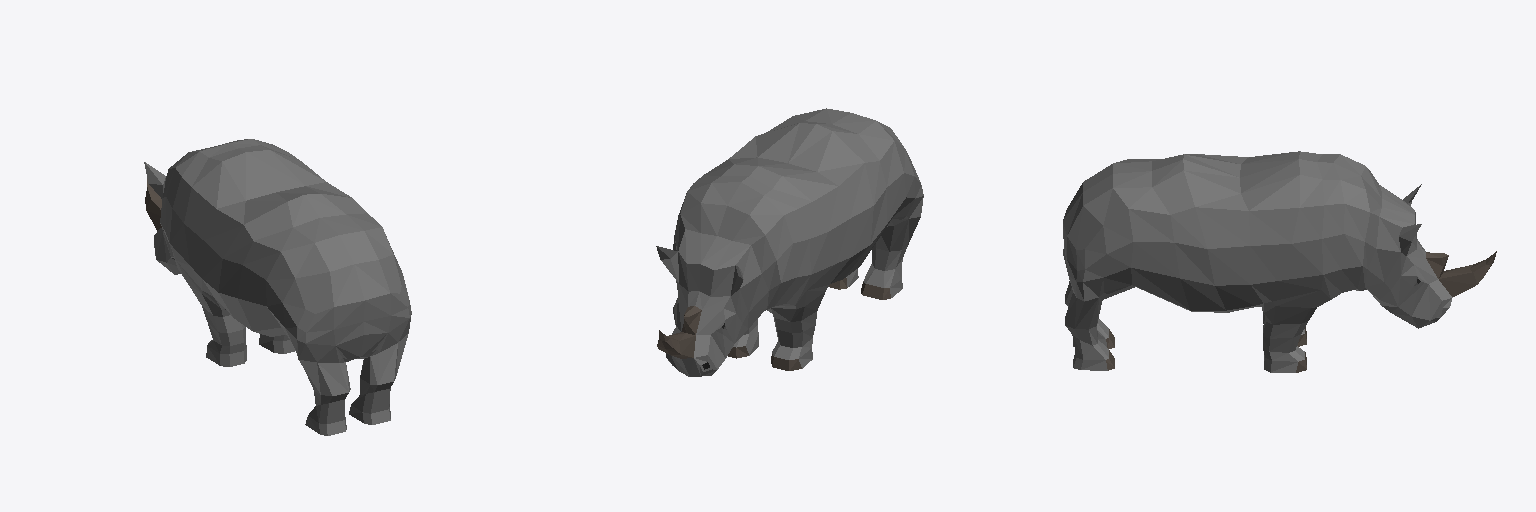
3 renders of one model, left to right at view 1: azimuth 30°, elevation 25°; view 2: azimuth 150°, elevation 25°; view 3: azimuth 270°, elevation 25°, orthographic.
Parts seen in each view (by area): view 1: Plane; view 2: Plane; view 3: Plane.
Part boxes in pixels (x1,y1,x2,y2): Plane: (144,139,411,435); Plane: (656,108,923,376); Plane: (1063,151,1496,372).
Bounding box in the file's own units: 3.4 × 4.49 × 9.12.
Materials: 1 (1 with a texture image).